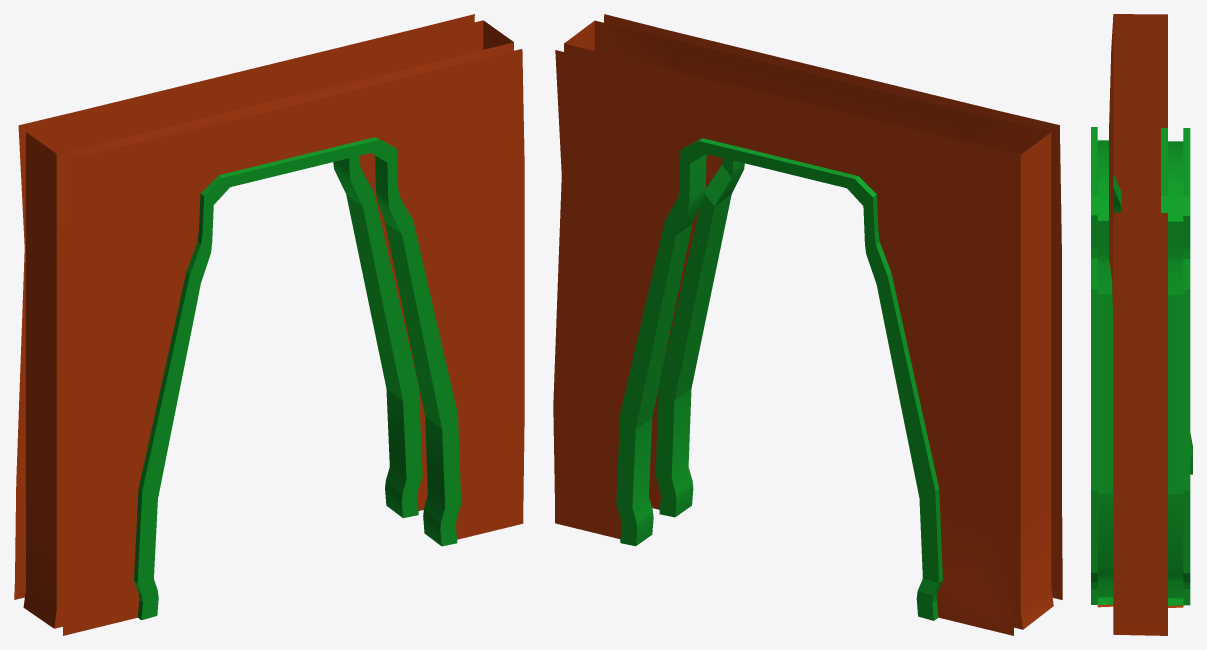
Rendered from Module_Ss_door_Frame_2x_A1.FBX.
3 renders of one model, left to right at view 1: azimuth 30°, elevation 25°; view 2: azimuth 150°, elevation 25°; view 3: azimuth 270°, elevation 25°, orthographic. The views are drawn at different scales.
Visible parts, largest first — view 1: Module_Ss_door_Frame_2x_A1b; view 2: Module_Ss_door_Frame_2x_A1b; view 3: Module_Ss_door_Frame_2x_A1b.
Part boxes in pixels (x1,y1,x2,y2): Module_Ss_door_Frame_2x_A1b: [14, 14, 524, 635]; Module_Ss_door_Frame_2x_A1b: [553, 14, 1062, 635]; Module_Ss_door_Frame_2x_A1b: [1091, 14, 1192, 635].
Bounding box in the file's own units: 81.59 × 80.29 × 17.49.
